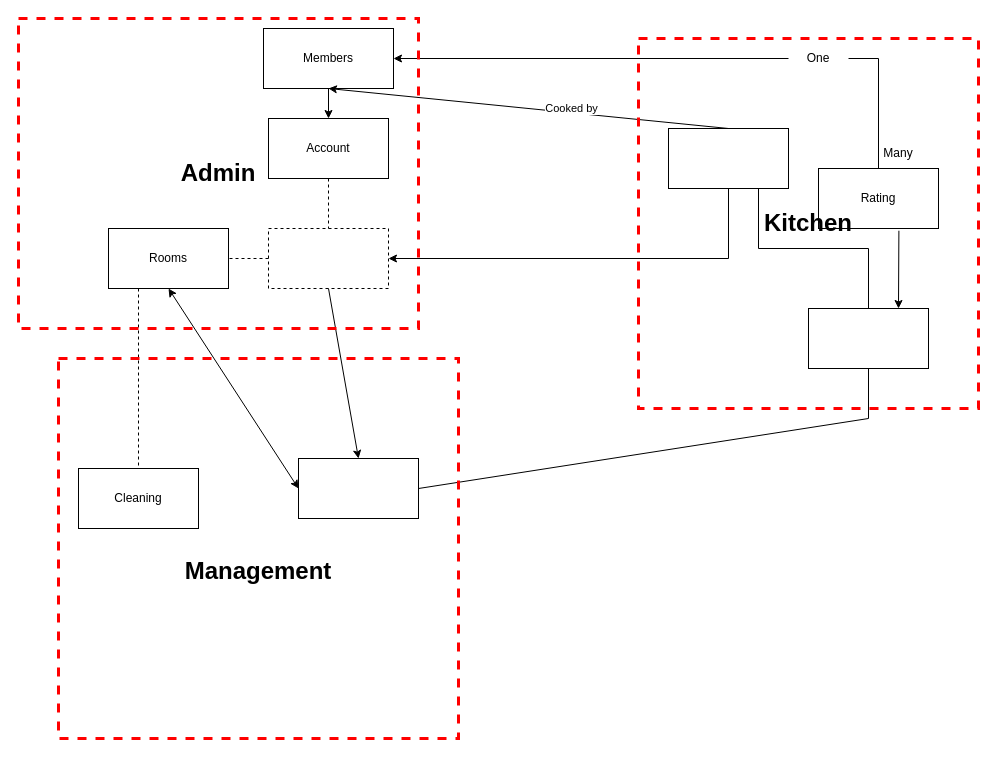
Image size: 997x757. Some labels were removed from this diagram. The box of each missing label's shape, as (x1, y1, x2, y2) in pixels:
House: (268, 228, 388, 288)
items Da fridge: (298, 458, 418, 518)
Meal: (668, 128, 788, 188)
Recipes: (808, 308, 928, 368)
